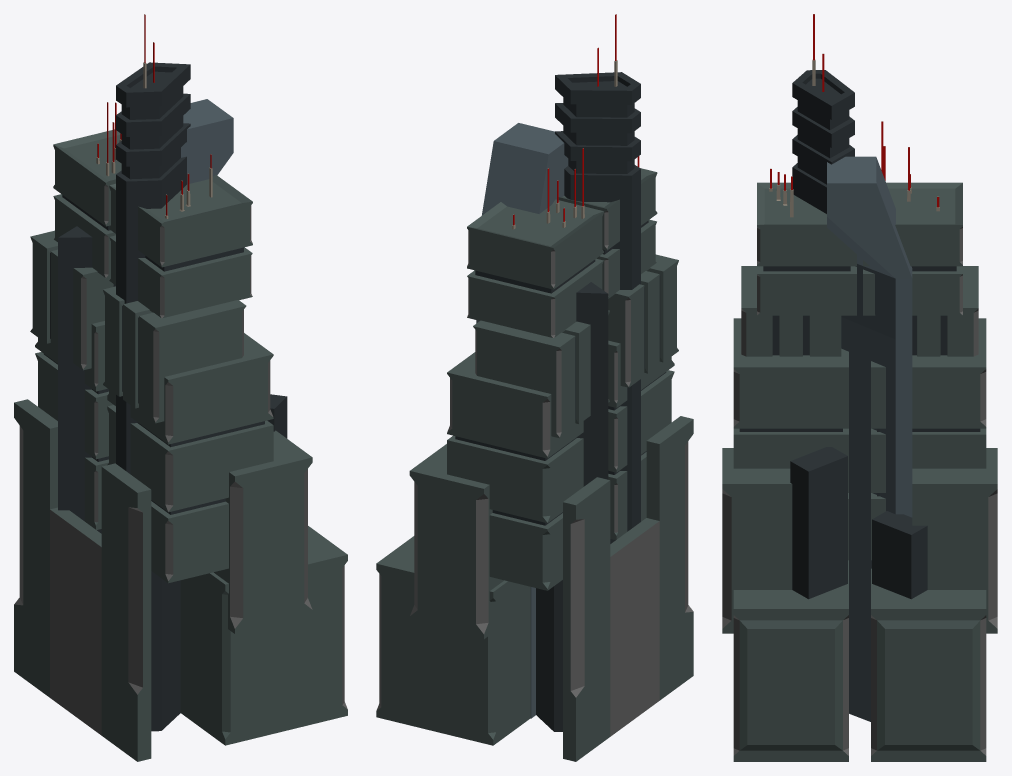
Rendered from building_38.fbx.
The picture shows the model from 3 angles, left to right: view 1: azimuth 30°, elevation 25°; view 2: azimuth 150°, elevation 25°; view 3: azimuth 270°, elevation 25°; orthographic projection. The views are drawn at different scales.
Visible parts, largest first — view 1: building_38; view 2: building_38; view 3: building_38.
Boxes of the visible parts, x1=… form: building_38: x1=14, y1=14, x2=347, y2=761; building_38: x1=376, y1=14, x2=693, y2=761; building_38: x1=722, y1=14, x2=997, y2=761.
Bounding box in the file's own units: 1211 × 3944 × 1461.
